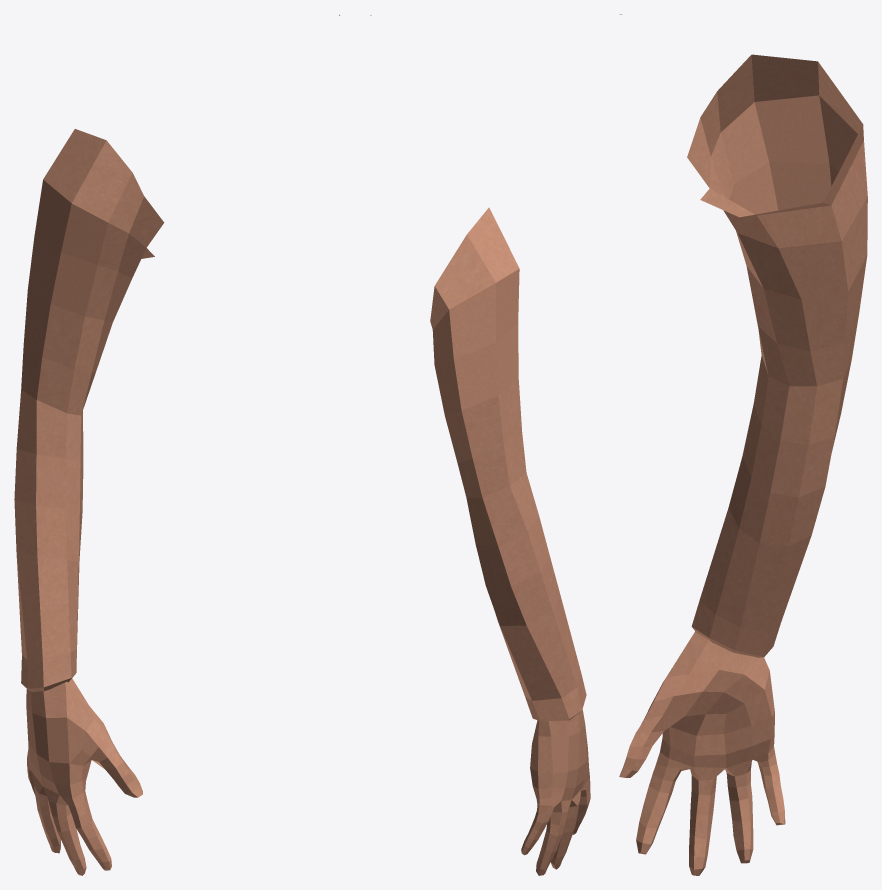
File: kol.glb
3 renders of one model, left to right at view 1: azimuth 30°, elevation 25°; view 2: azimuth 150°, elevation 25°; view 3: azimuth 270°, elevation 25°, orthographic. The views are drawn at different scales.
Visible parts, largest first — view 1: Human 2; view 2: Human 2; view 3: Human 2.
Part boxes in pixels (x1,y1,x2,y2): Human 2: (14, 14, 339, 875); Human 2: (370, 15, 590, 875); Human 2: (619, 14, 867, 875).
Size of the model in its own units: 0.2839 by 0.8362 by 0.1893.
Materials: 3 (3 with a texture image).
